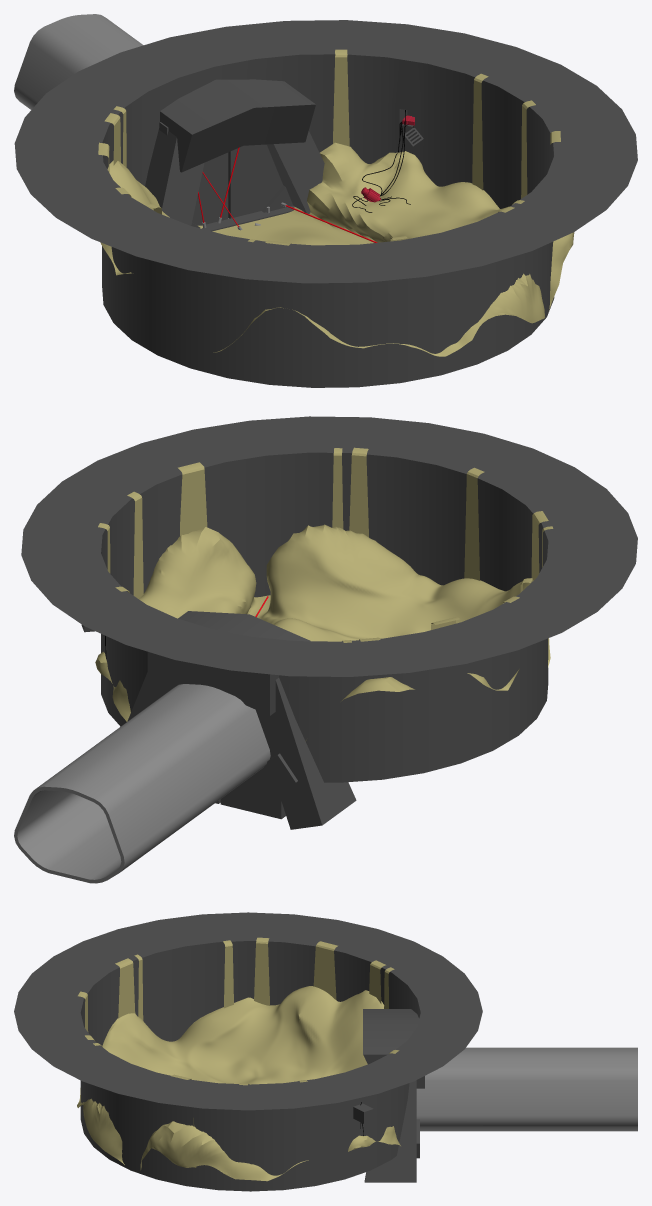
File: Environment_Prototype_Entrance 1.fbx
3 views of the same model, one above another, from view 1: azimuth 30°, elevation 25°; view 2: azimuth 150°, elevation 25°; view 3: azimuth 270°, elevation 25° (orthographic). The views are drawn at different scales.
Visible parts, largest first — view 1: BezierCurve.002; view 2: BezierCurve.002; view 3: BezierCurve.002.
Boxes of the visible parts, box(x1,y1,x2,y2) form: BezierCurve.002: box(14, 14, 637, 387); BezierCurve.002: box(14, 416, 637, 883); BezierCurve.002: box(14, 912, 637, 1191).
Size of the model in its own units: 8227 by 2792 by 10956.
